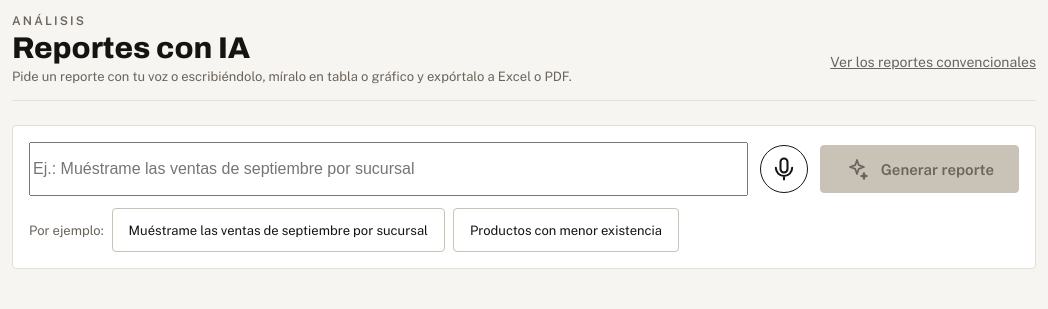
ReportesIaComponent › dictado › mientras escucha avisa "Escuchando… habla ahora"
Click the button named "Dictar tu pedido" at [784, 169], box [760, 145, 808, 193]
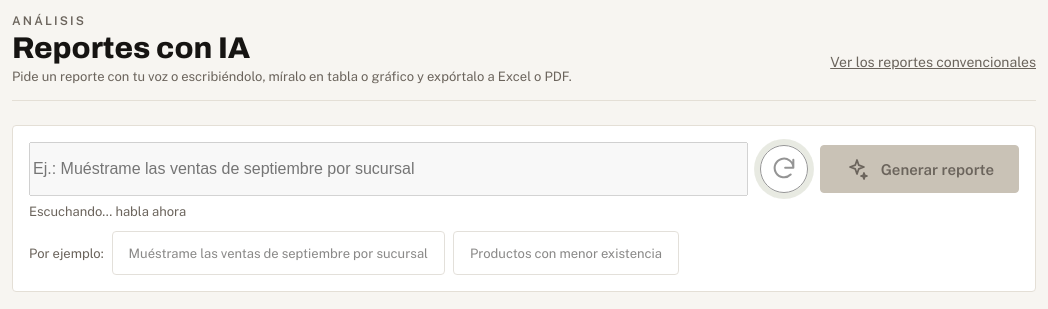
Expected: the message "Escuchando… habla ahora" is shown, [29, 204, 186, 219]
